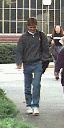person: (18, 14, 48, 120)
